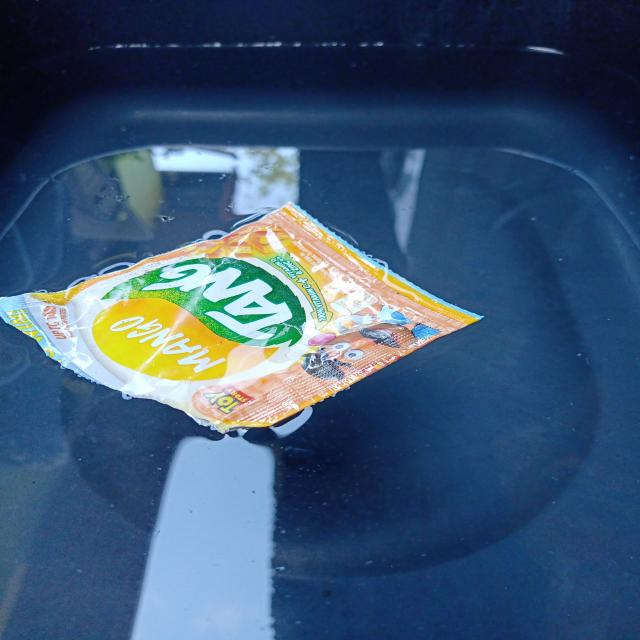Plastic Wrapper: (0, 203, 481, 432)
